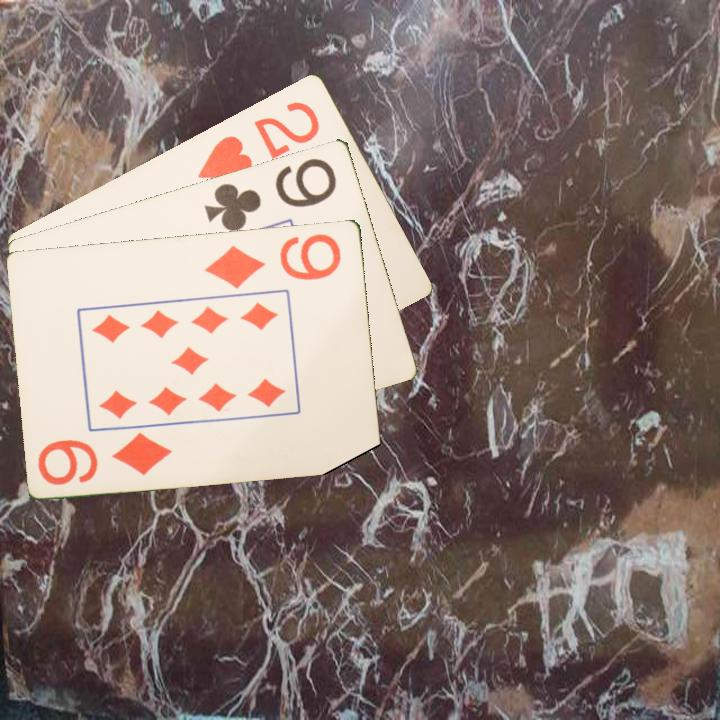2h: (194, 97, 323, 182)
9c: (201, 154, 340, 234)
9d: (201, 229, 345, 291), (34, 428, 175, 488)
